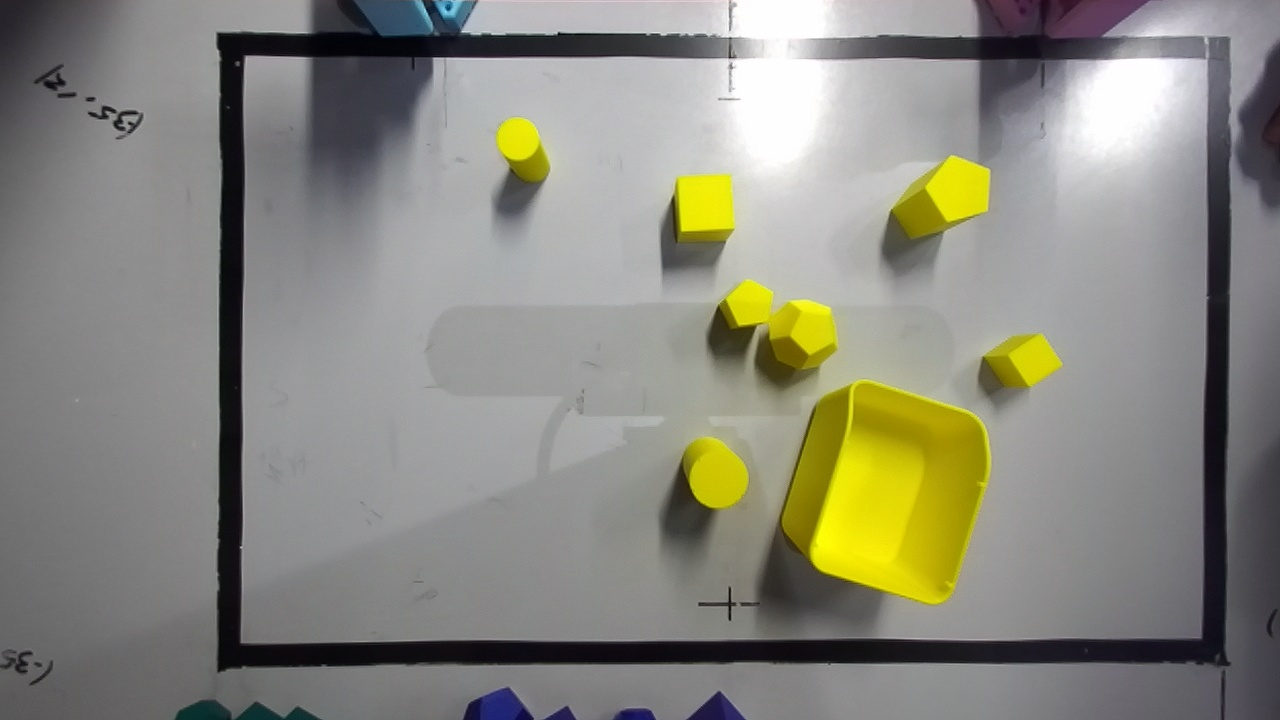bin: (781, 380, 989, 603)
cube: (982, 334, 1061, 387), (674, 174, 734, 242)
cylinder: (682, 437, 747, 508), (496, 117, 549, 182)
dodecahedron: (769, 299, 837, 368)
hexagonal: (891, 155, 989, 238), (718, 279, 772, 329)
